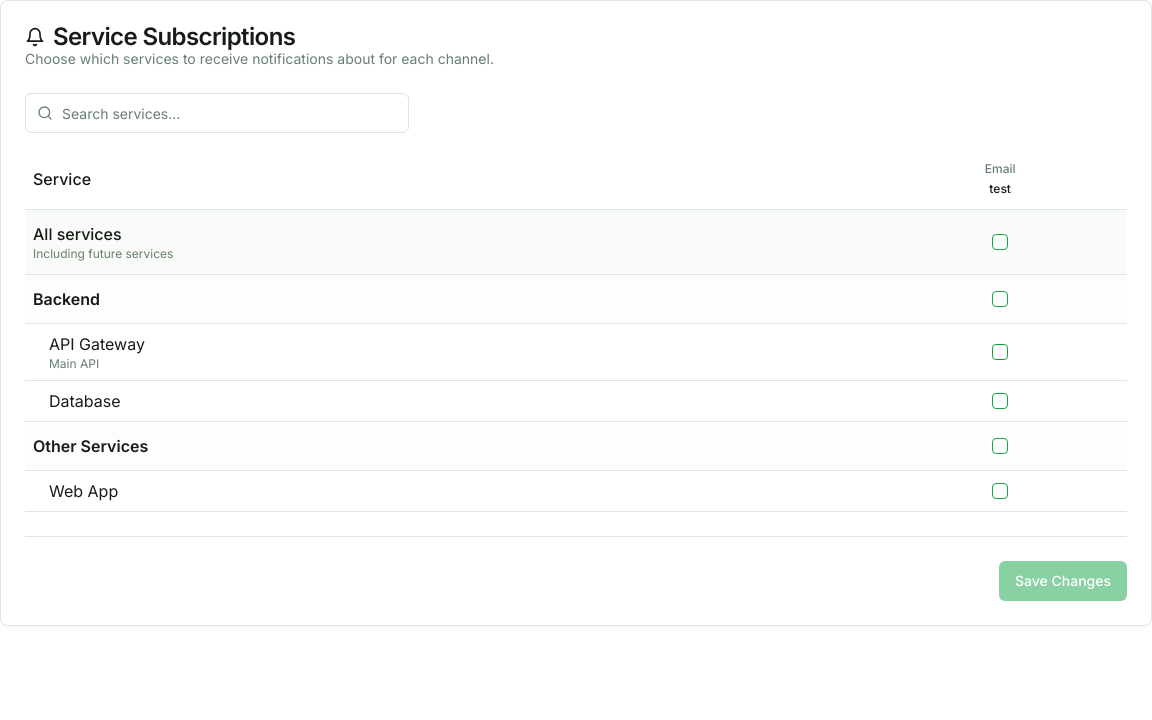
SubscriptionEditor › Group Checkbox › selects all services in a group when group checkbox is clicked
Expected: the text "Backend" is shown, [33,289,100,309]
Expected: the checkbox in the row of "API Gateway" is not checked, [992,344,1008,360]
# Click the group checkbox
Click the checkbox in the row of "Backend" at (1000, 299), box [992,291,1008,307]
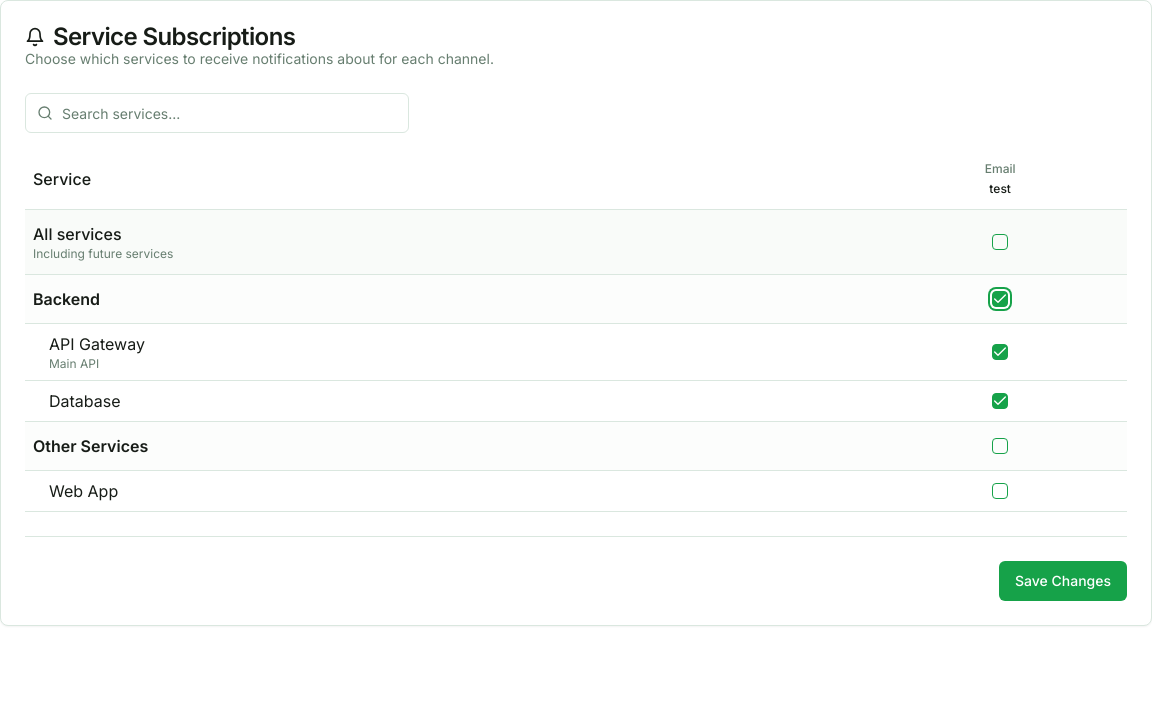
Result: the checkbox in the row of "API Gateway" is checked at [992,344,1008,360]
Result: the checkbox in the row of "Database" is checked at [992,393,1008,409]
